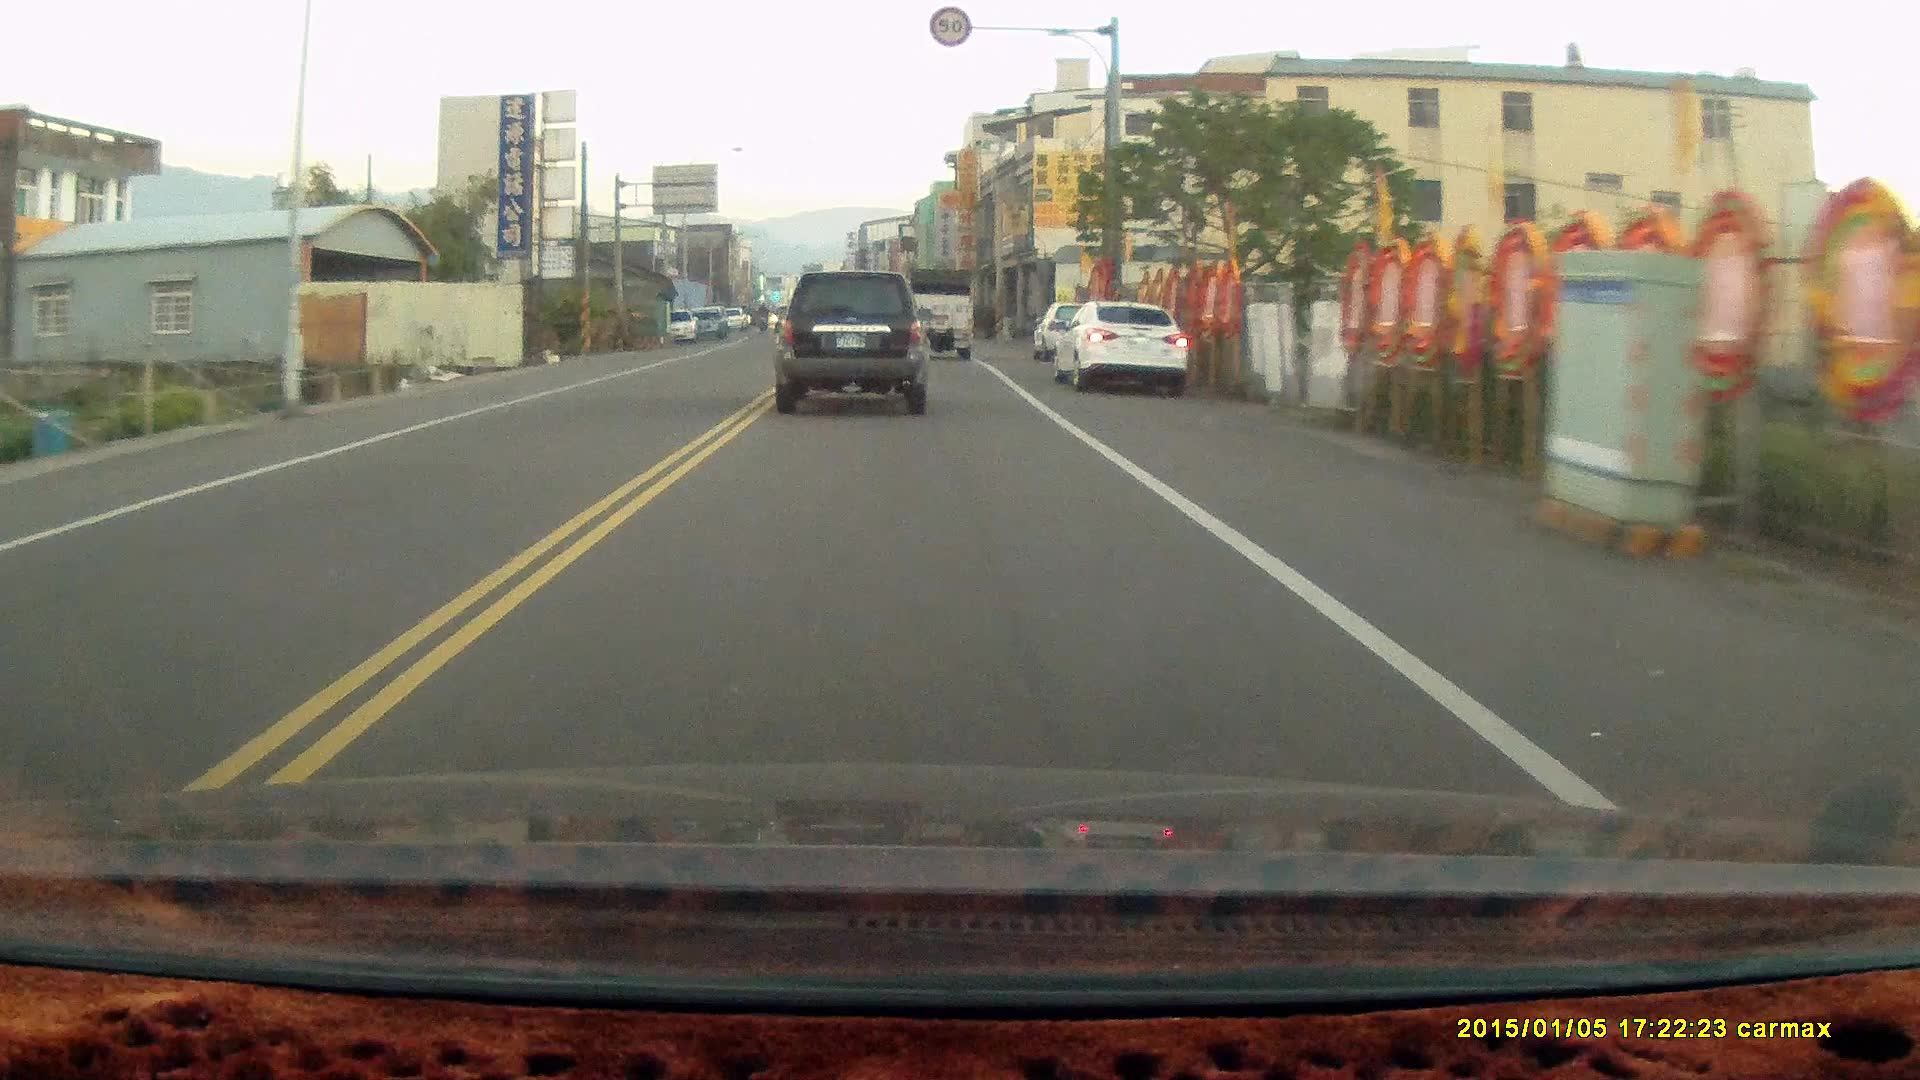vehicle: (771, 262, 934, 411), (1056, 301, 1185, 396), (905, 262, 980, 365)
